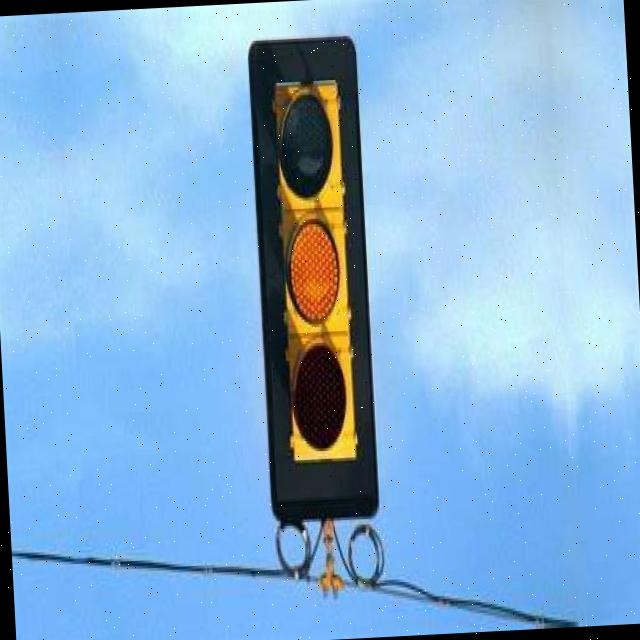yellow_light: (268, 69, 363, 468)
